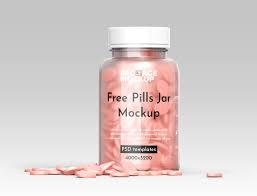jar: (99, 27, 182, 175)
